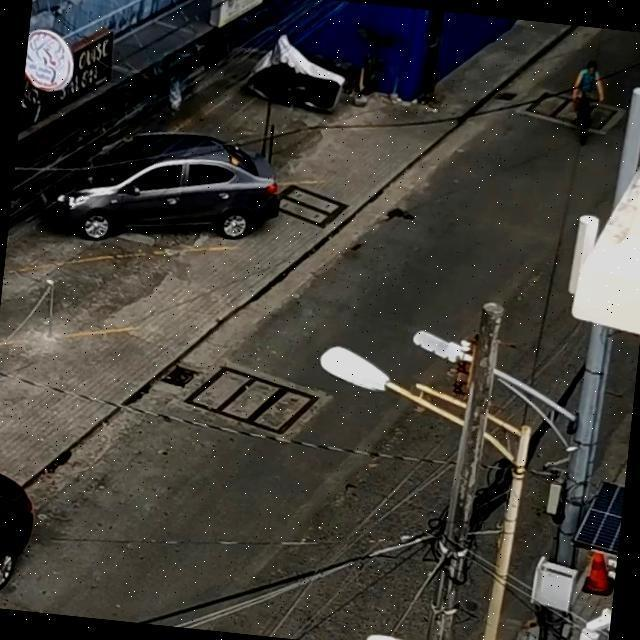Bike: (530, 38, 630, 154)
